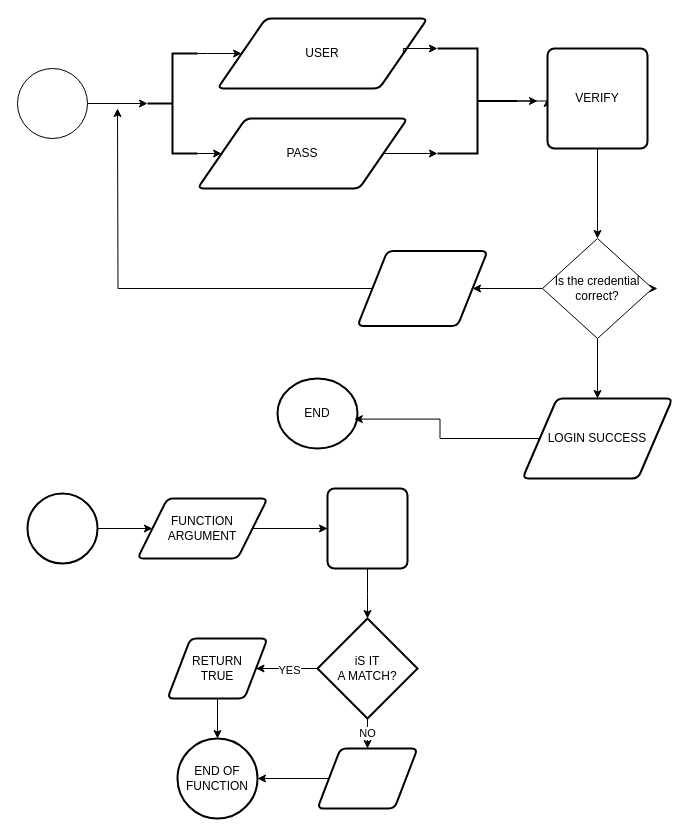
Image size: 691x836. Some labels were removed from this diagram. Here are the shapes that lost their labels. From the top down, the centre of each, then its label:
point 52,103: START
point 422,288: LOGIN FAILED
point 62,528: VERIFY FUNCTION START
point 367,528: COMPARE WITH DATABASE
point 367,778: RETURN FALSE
